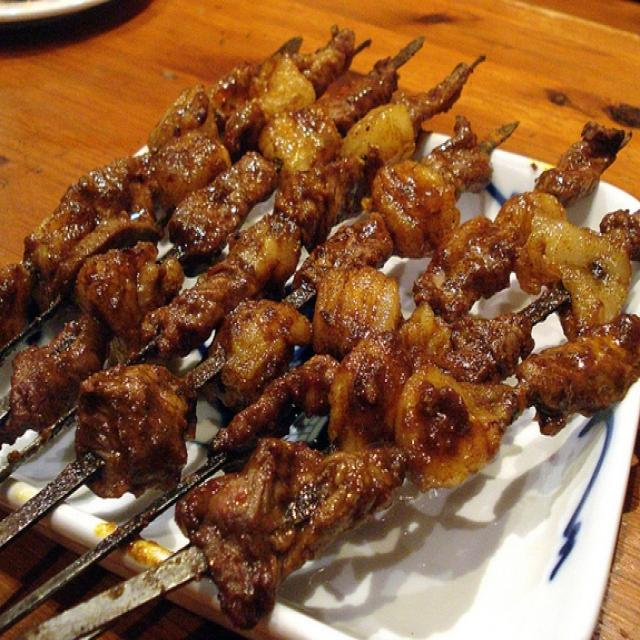烧串烤肉: (26, 47, 623, 605)
